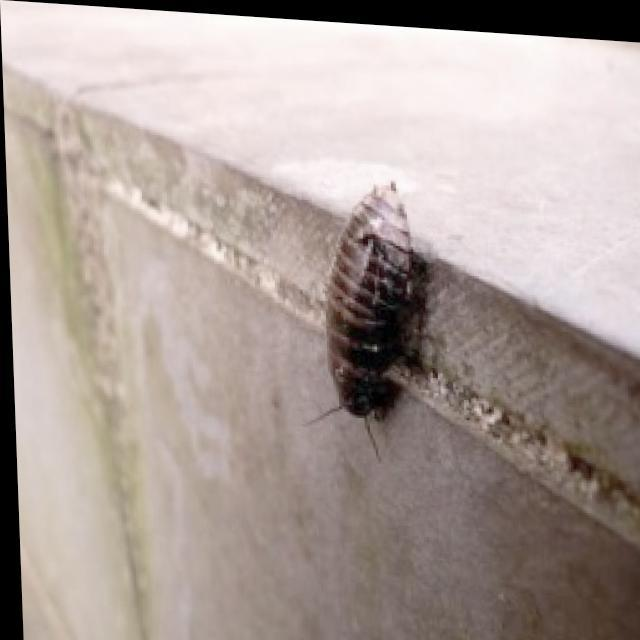cockroach: (303, 176, 438, 463)
